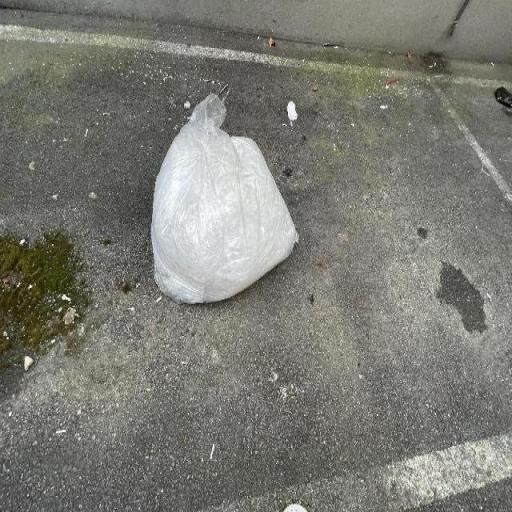plastic-bag: (150, 96, 297, 310)
